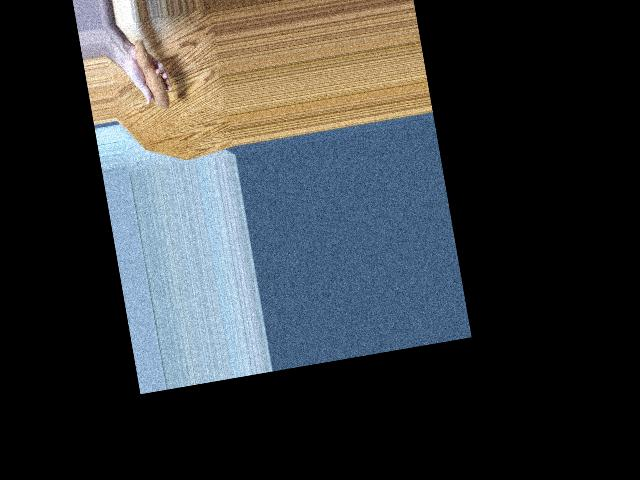sweet_potato: (132, 38, 171, 114)
